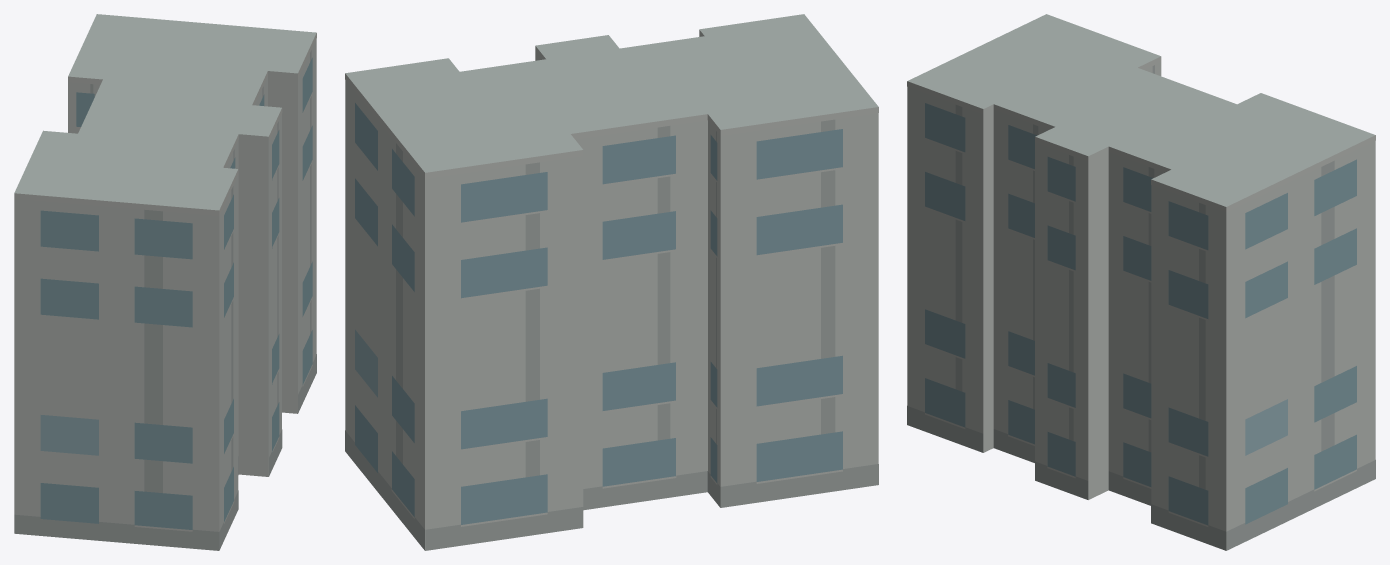
File: survey-upis-33042987.glb
3 views of the same model, side by side, from view 1: azimuth 30°, elevation 25°; view 2: azimuth 150°, elevation 25°; view 3: azimuth 270°, elevation 25° (orthographic). The views are drawn at different scales.
Visible parts, largest first — view 1: survey-upis-33042987.tmp; view 2: survey-upis-33042987.tmp; view 3: survey-upis-33042987.tmp.
Part boxes in pixels (bbox=[...]): survey-upis-33042987.tmp: bbox=[14, 14, 316, 550]; survey-upis-33042987.tmp: bbox=[345, 14, 878, 550]; survey-upis-33042987.tmp: bbox=[907, 14, 1375, 550].
Bounding box in the file's own units: 17.88 × 14.85 × 18.35.
